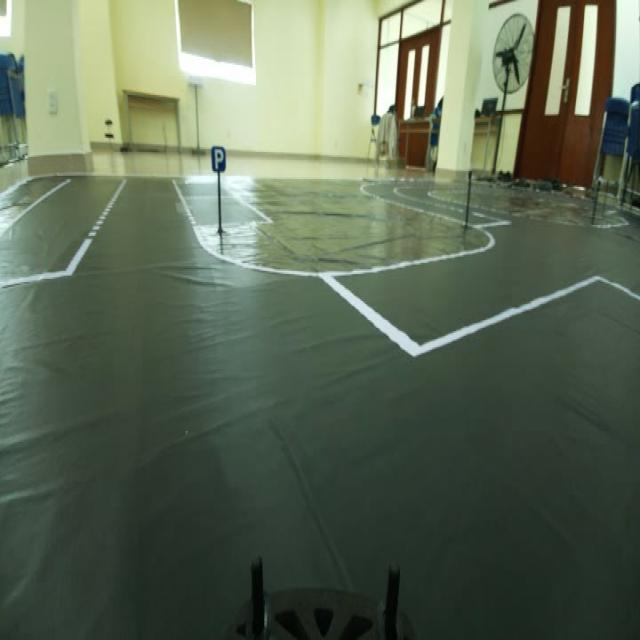parking: (207, 139, 232, 173)
